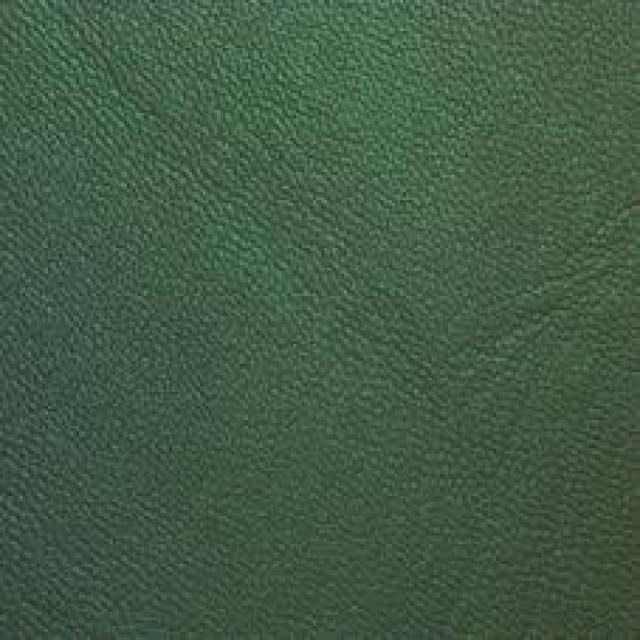Growth Marks: (81, 43, 306, 254)
